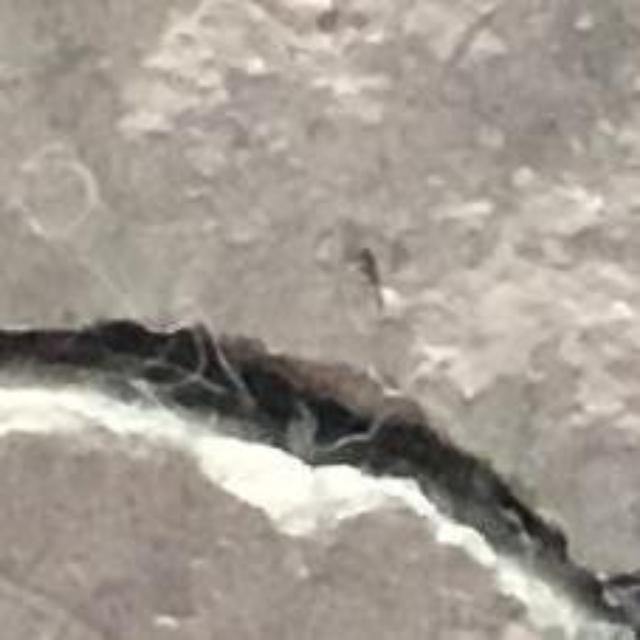crack: (0, 319, 639, 639)
